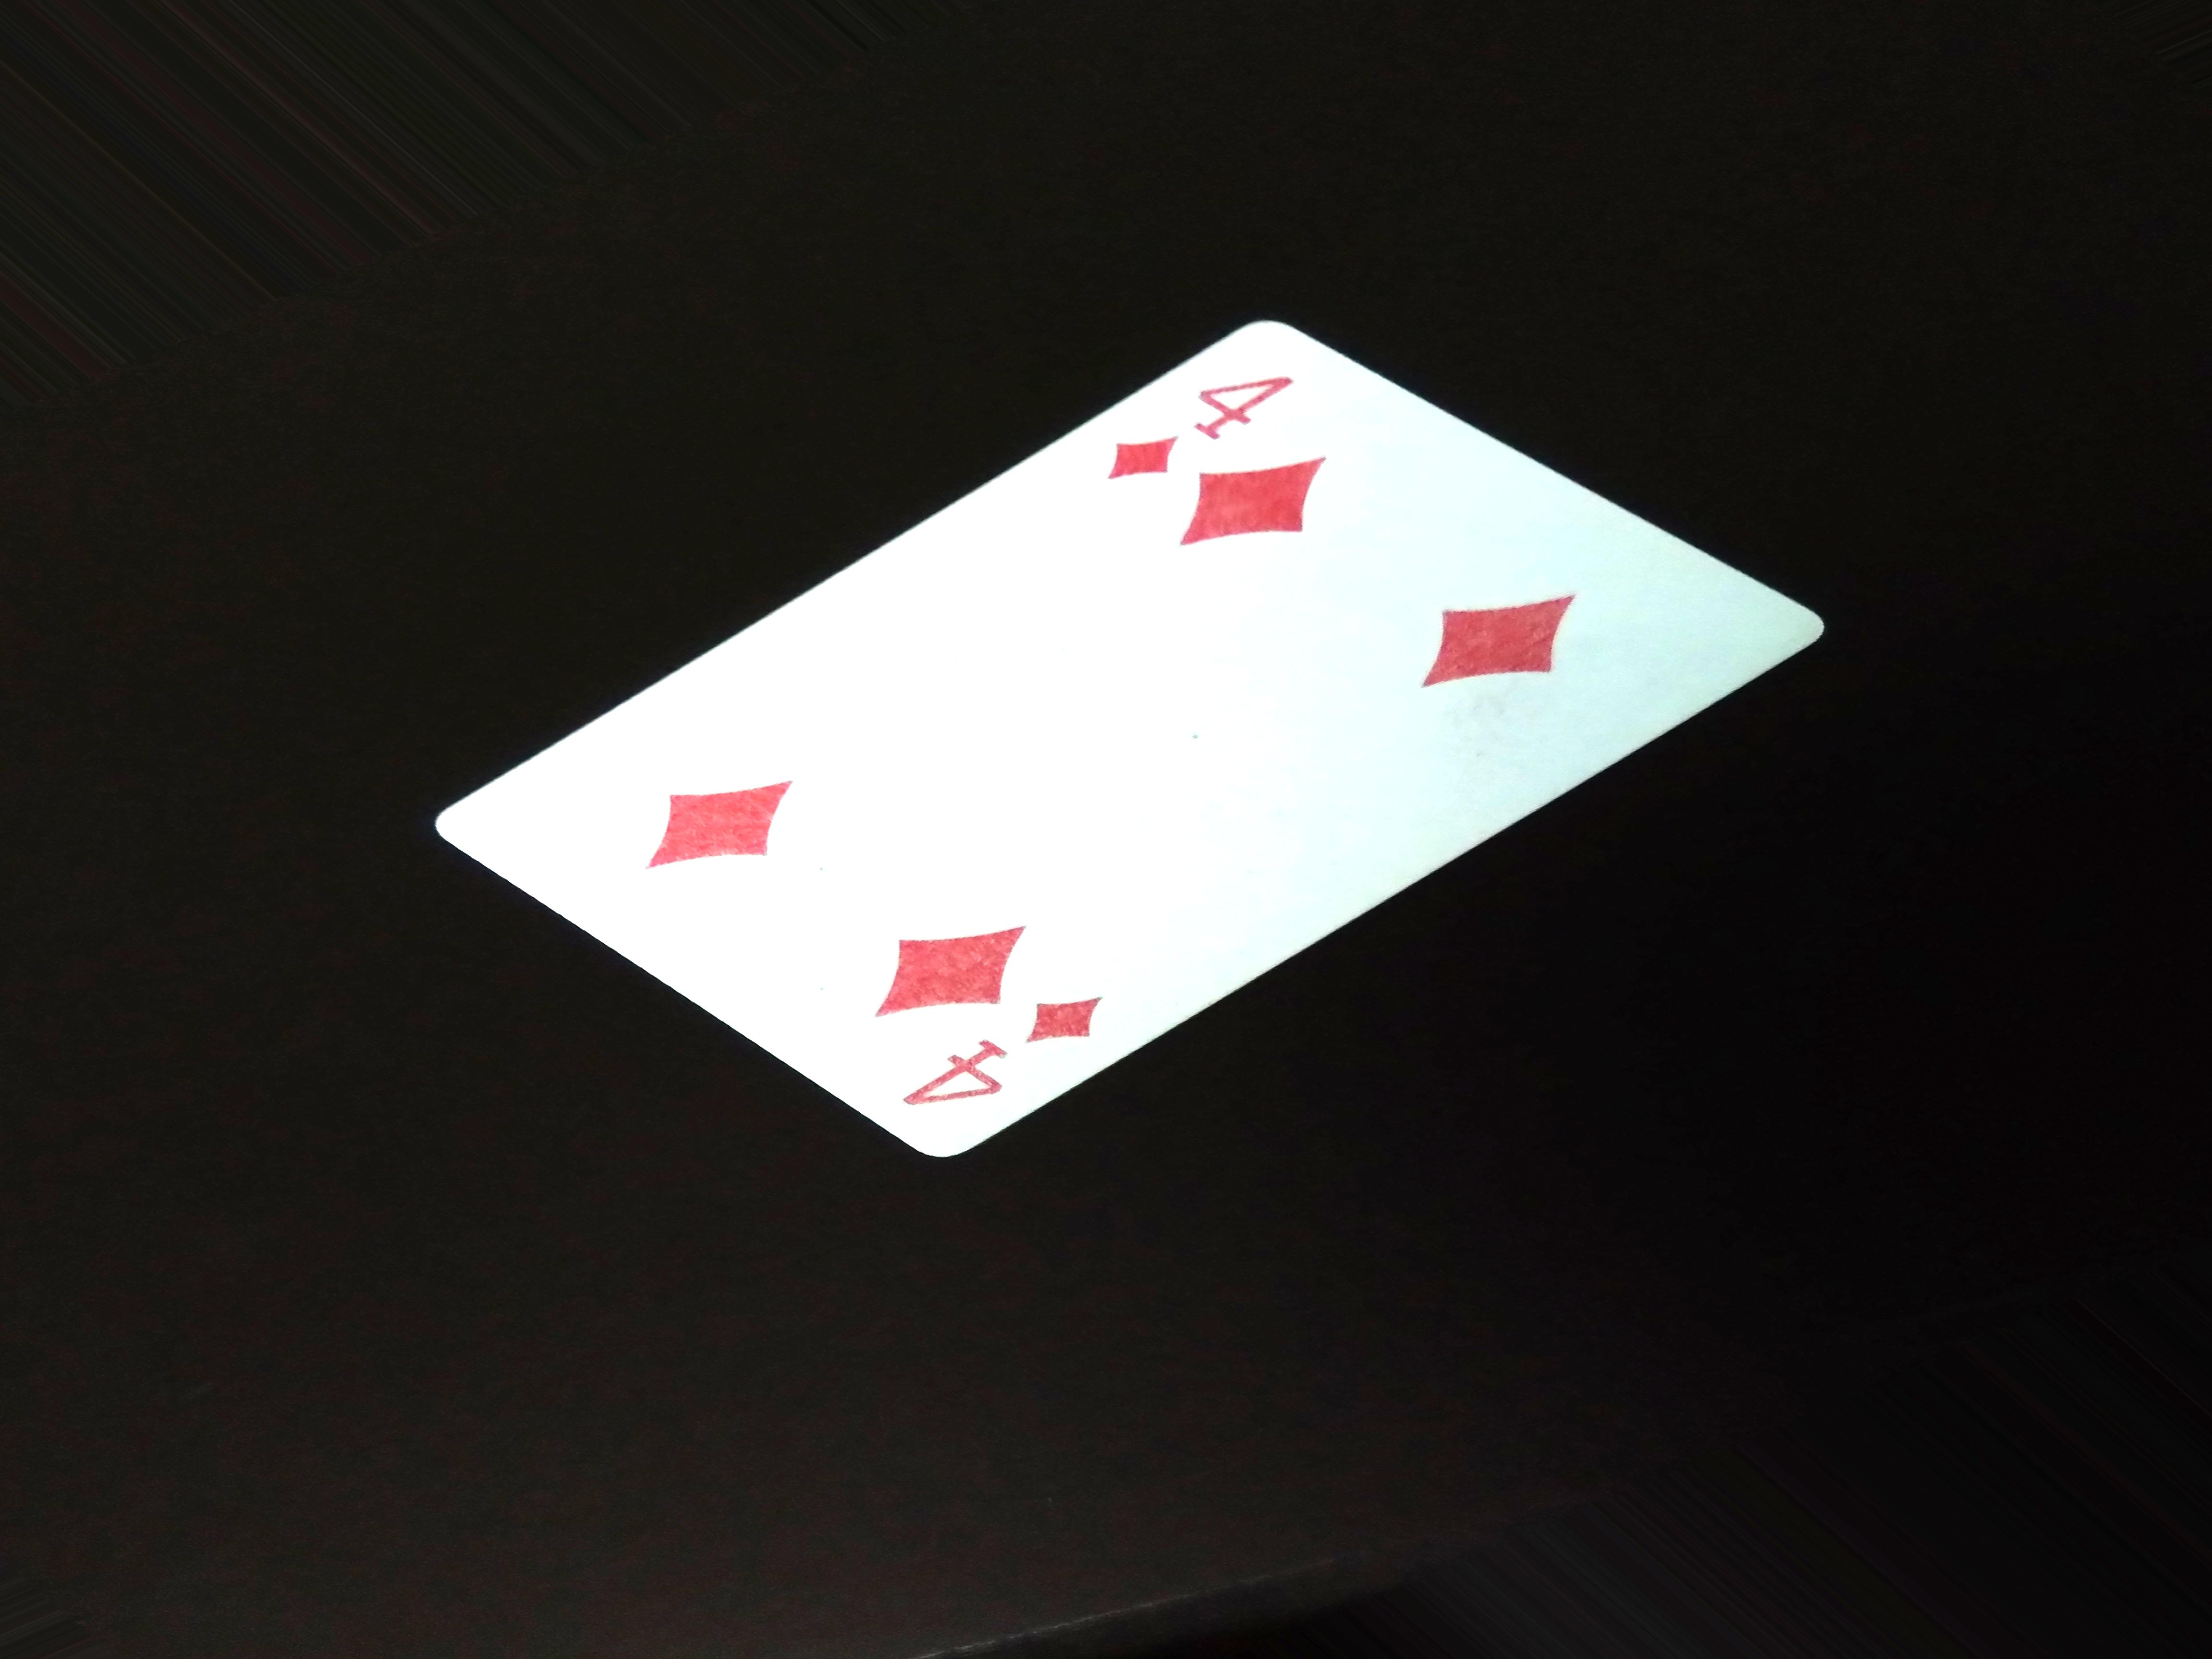4D: (1101, 329, 1313, 497)
